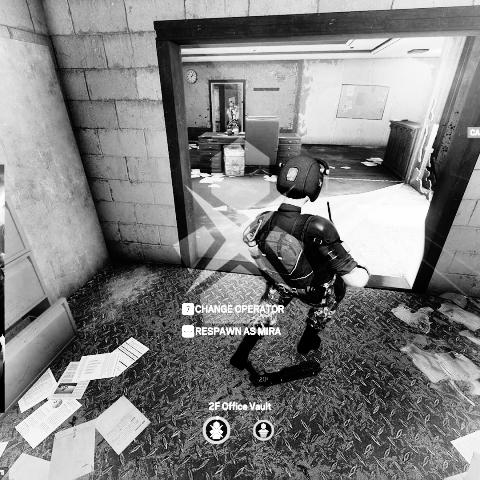Character: (229, 155, 371, 371), (226, 101, 240, 129)
Head: (276, 155, 329, 211), (229, 101, 235, 107)
